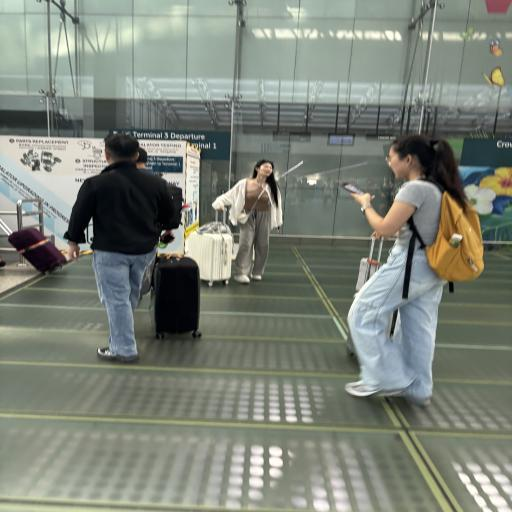person_with_luggage_left: (346, 120, 482, 414)
